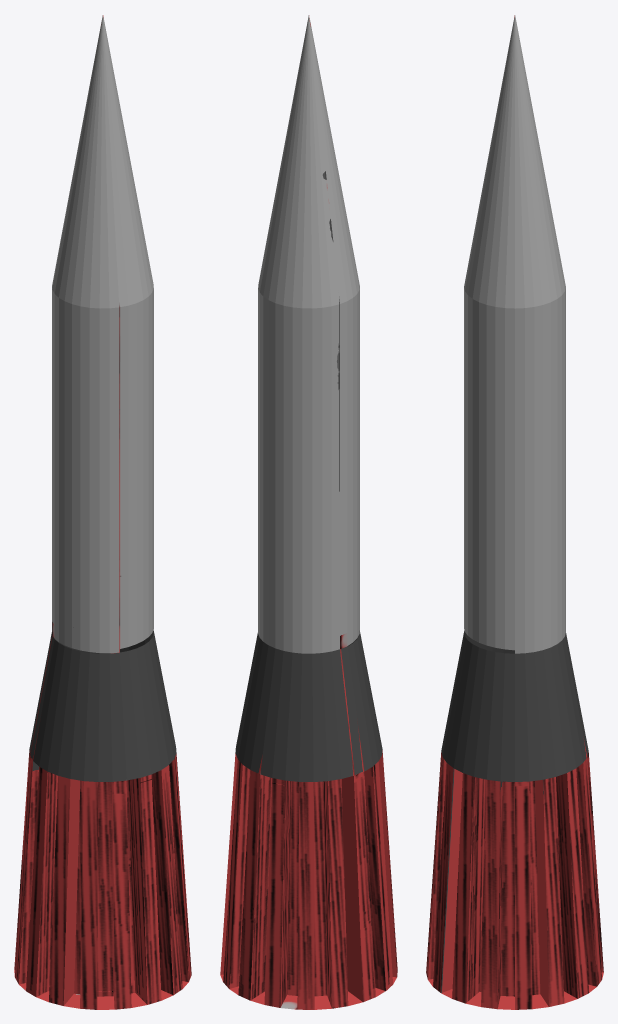
The model's file is Dart.fbx.
The picture shows the model from 3 angles, left to right: view 1: azimuth 30°, elevation 25°; view 2: azimuth 150°, elevation 25°; view 3: azimuth 270°, elevation 25°; orthographic projection.
Visible parts, largest first — view 1: Dart; view 2: Dart; view 3: Dart.
Part boxes in pixels (<box>): Dart: <box>14,15,191,1009</box>; Dart: <box>220,15,397,1009</box>; Dart: <box>426,15,603,1009</box>.
Bounding box in the file's own units: 0.0174 × 0.1037 × 0.0174.
